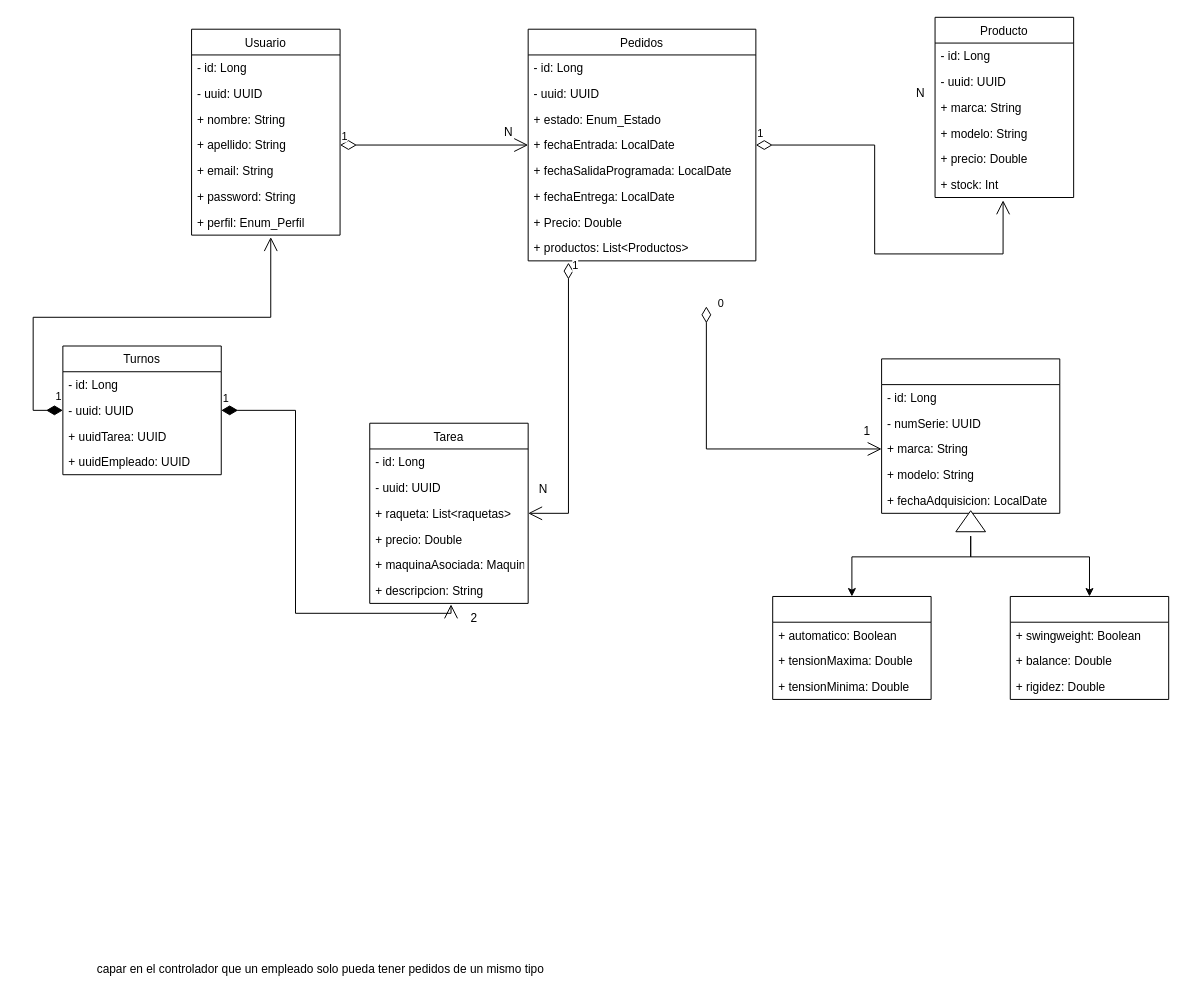
This 1186x1002 diagram has some shape labels left out. The box of each missing label's shape, as (x1, y1, x2, y2) in pixels:
Encordadora: (772, 595, 931, 699)
Maquina: (881, 358, 1060, 513)
Personalizacion: (1009, 595, 1169, 699)
